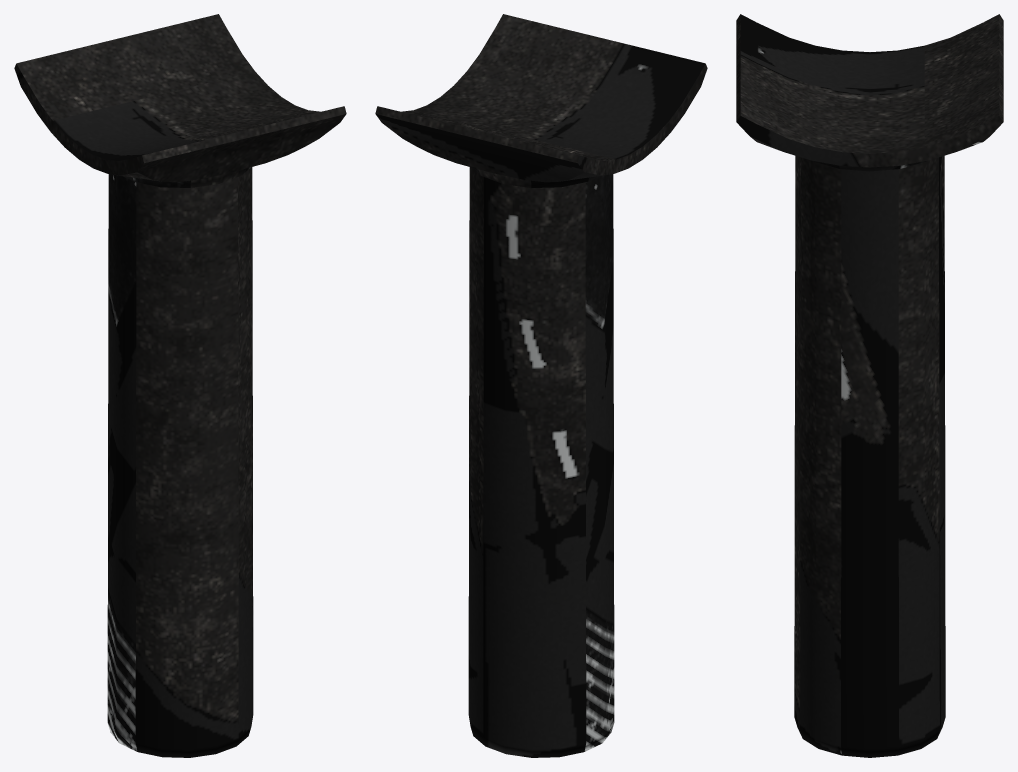
File: BMX_Seat Post_Saturday_Night Fever.fbx
3 views of the same model, side by side, from view 1: azimuth 30°, elevation 25°; view 2: azimuth 150°, elevation 25°; view 3: azimuth 270°, elevation 25° (orthographic). The views are drawn at different scales.
Parts seen in each view (by area): view 1: BMX_SeatPost_Saturday_NightFever; view 2: BMX_SeatPost_Saturday_NightFever; view 3: BMX_SeatPost_Saturday_NightFever.
Part boxes in pixels (x1,y1,x2,y2): BMX_SeatPost_Saturday_NightFever: [14, 14, 346, 757]; BMX_SeatPost_Saturday_NightFever: [375, 14, 707, 757]; BMX_SeatPost_Saturday_NightFever: [736, 14, 1003, 757].
Bounding box in the file's own units: 4.08 × 12.4 × 4.53.
